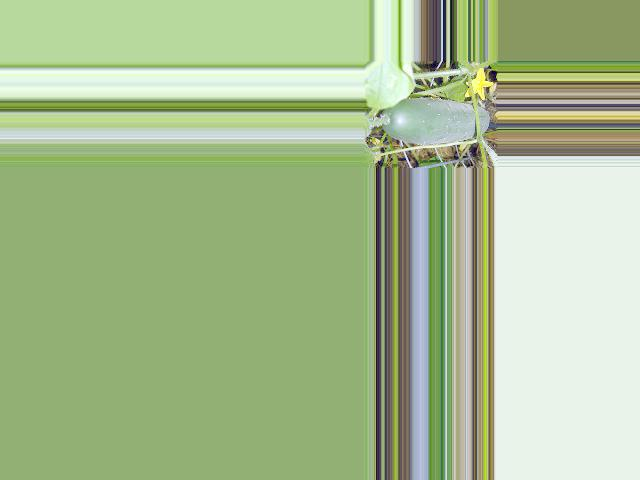cucumber: (379, 98, 488, 144)
